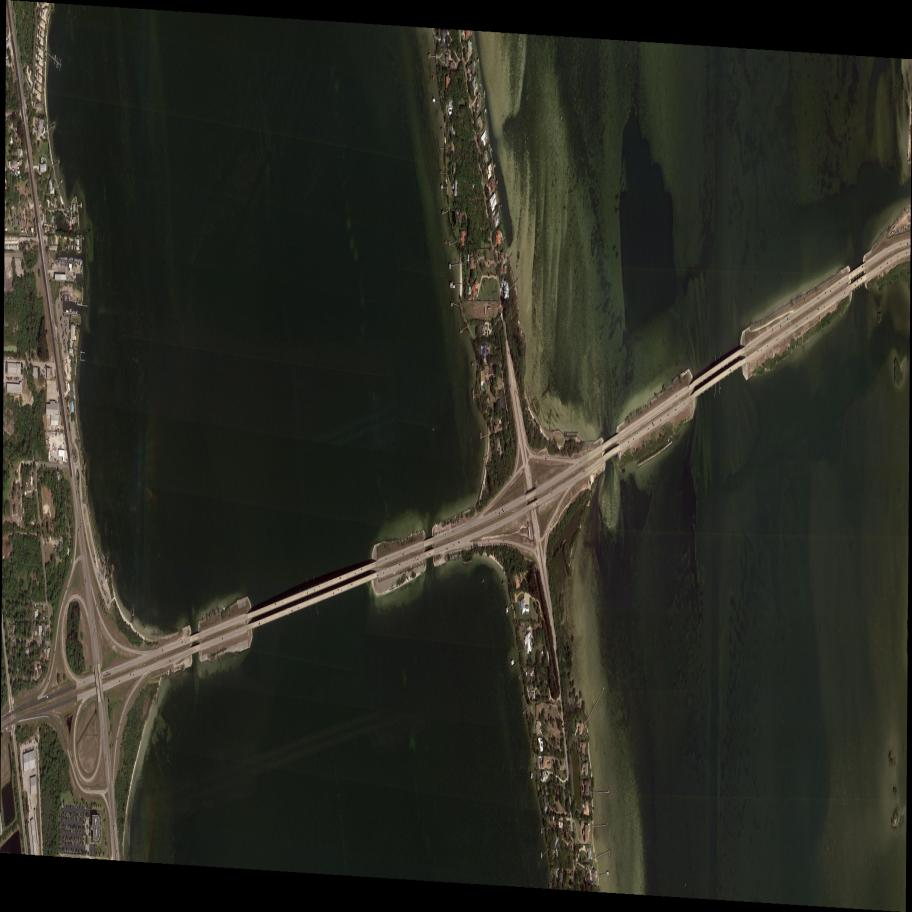ship: (80, 259, 82, 266), (79, 259, 81, 264), (78, 259, 80, 264), (72, 310, 74, 314), (75, 311, 77, 315), (76, 311, 78, 315), (65, 257, 67, 261), (72, 258, 74, 262), (74, 258, 76, 262), (76, 259, 78, 263), (77, 259, 79, 263), (68, 294, 69, 301), (66, 295, 67, 302), (65, 296, 66, 302), (70, 258, 72, 261), (81, 260, 82, 265), (74, 311, 75, 315), (65, 257, 66, 261), (70, 258, 71, 262), (75, 258, 76, 262), (64, 257, 65, 260), (72, 258, 73, 261), (76, 259, 77, 262), (66, 258, 67, 260), (63, 261, 63, 268)
